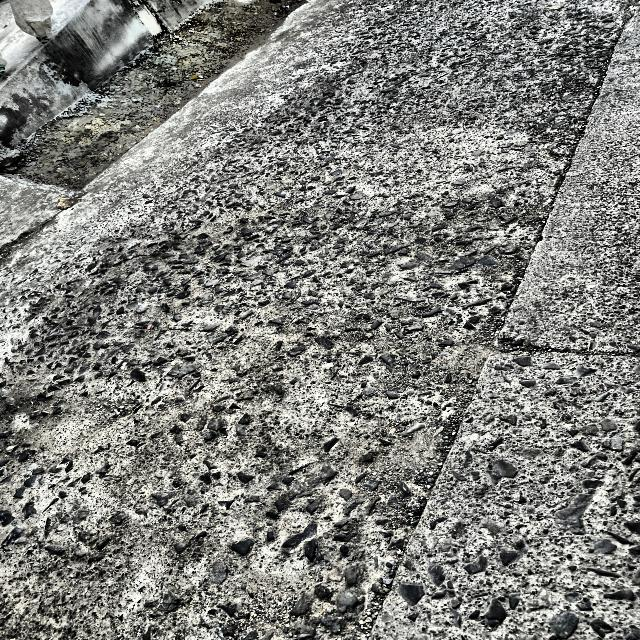major_scaling: (0, 0, 616, 561)
